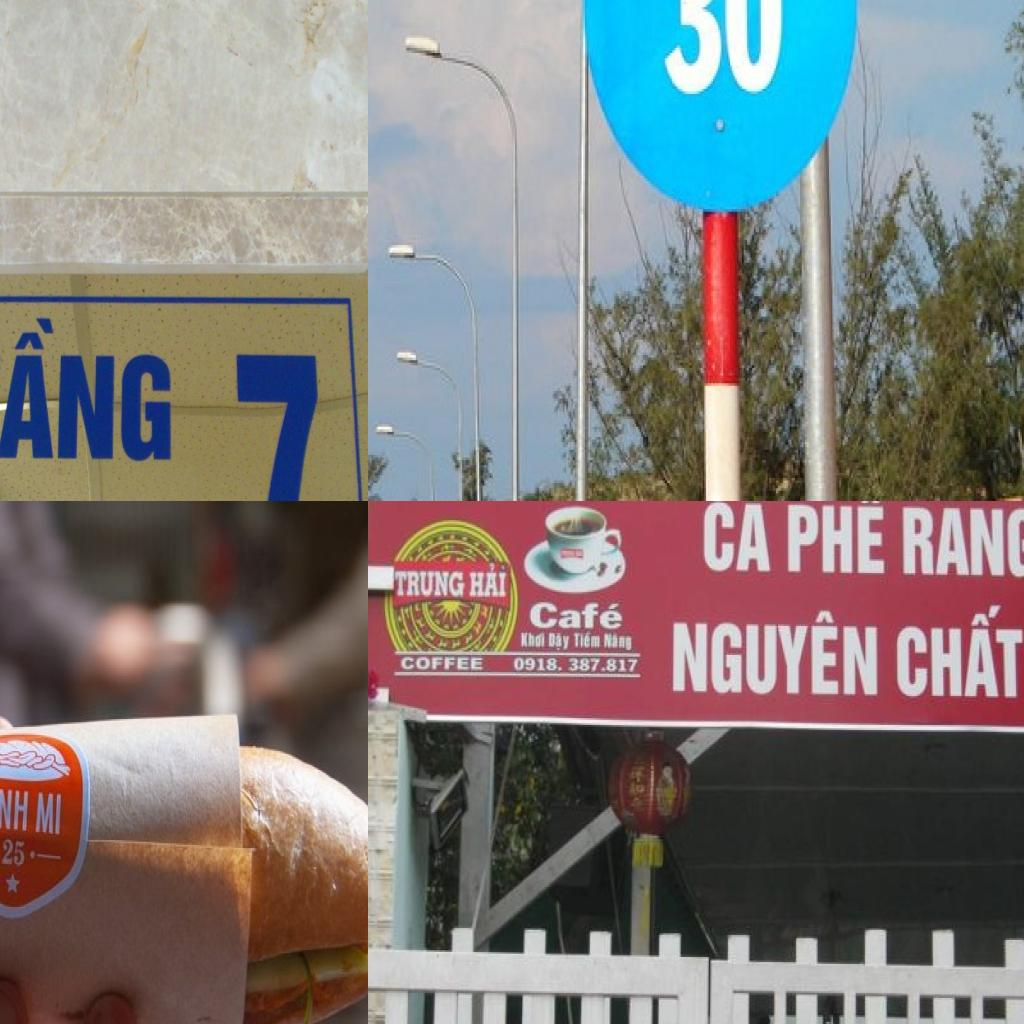text: (0, 309, 173, 467), (673, 611, 879, 696), (663, 0, 784, 101), (897, 606, 1024, 700), (902, 504, 1024, 578), (786, 501, 885, 576), (702, 501, 772, 574), (528, 604, 624, 631), (513, 656, 640, 674), (394, 572, 467, 600), (0, 783, 31, 837), (34, 788, 64, 843), (468, 562, 508, 598), (399, 657, 484, 672), (603, 632, 632, 652), (548, 631, 570, 653), (574, 631, 602, 648), (520, 631, 546, 648)
